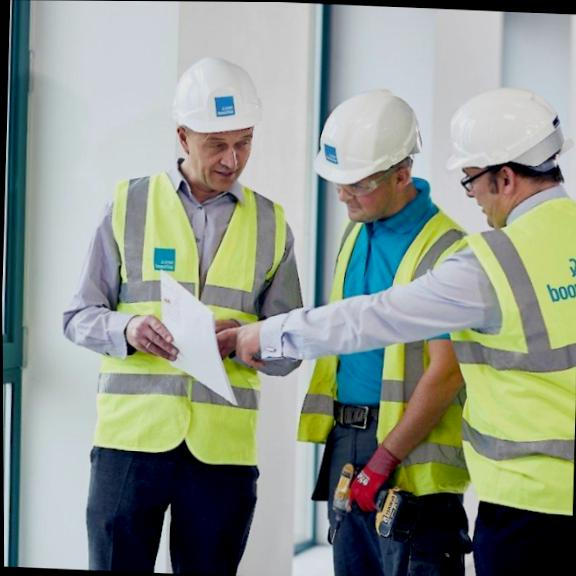safety_vest: (68, 179, 290, 461), (286, 208, 466, 502), (450, 202, 576, 525)
